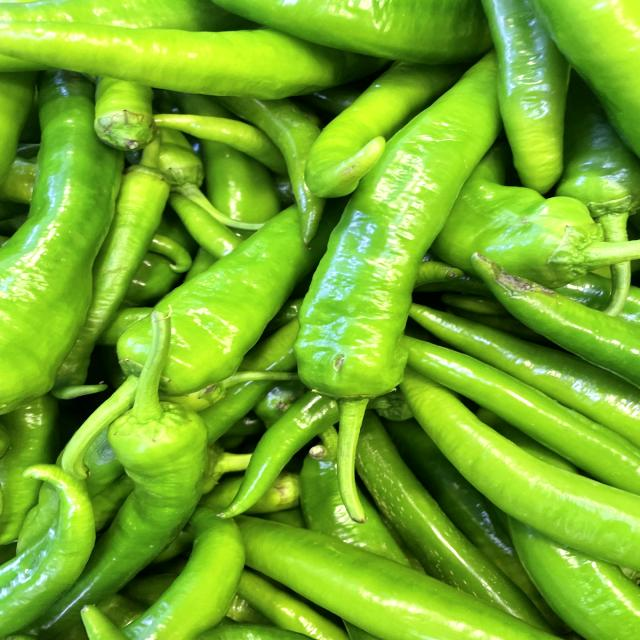green pepper: (277, 45, 580, 525)
